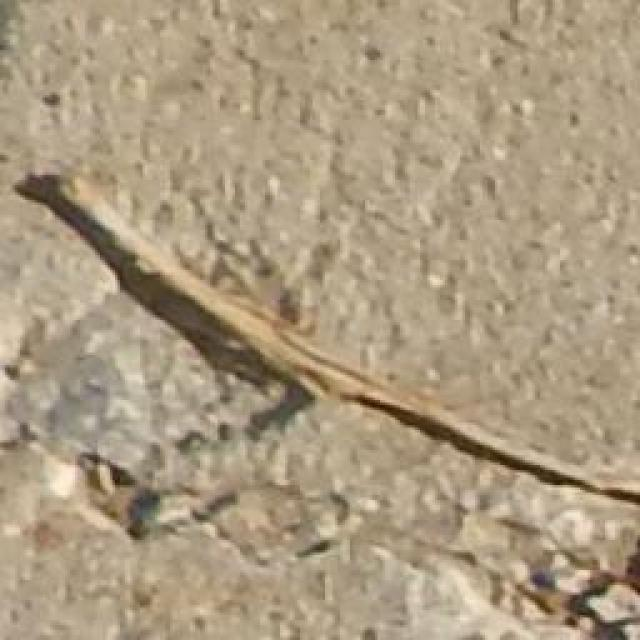concrete-crack: (9, 162, 640, 545), (427, 529, 640, 640)
